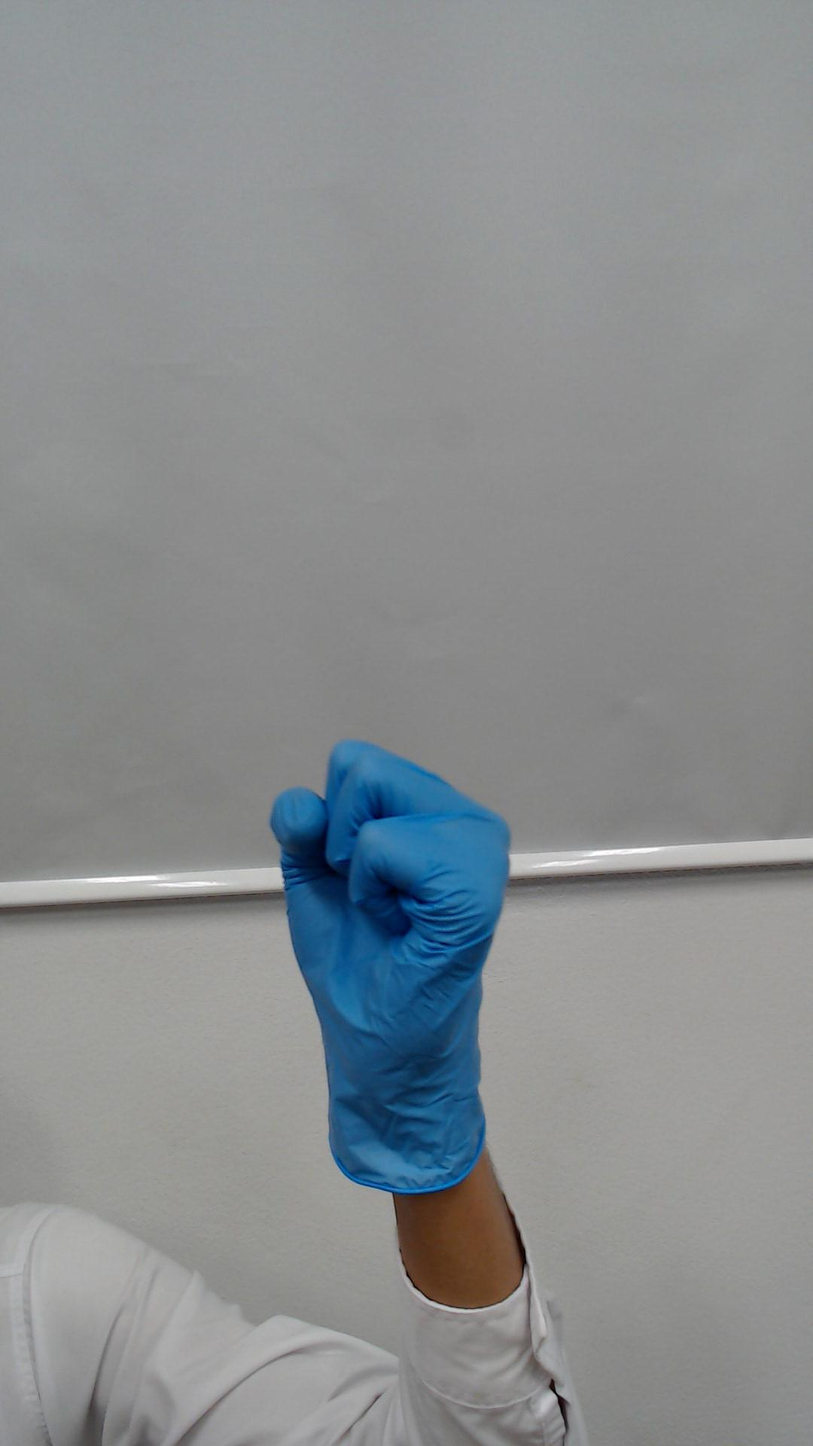gloves: (249, 701, 544, 1055)
